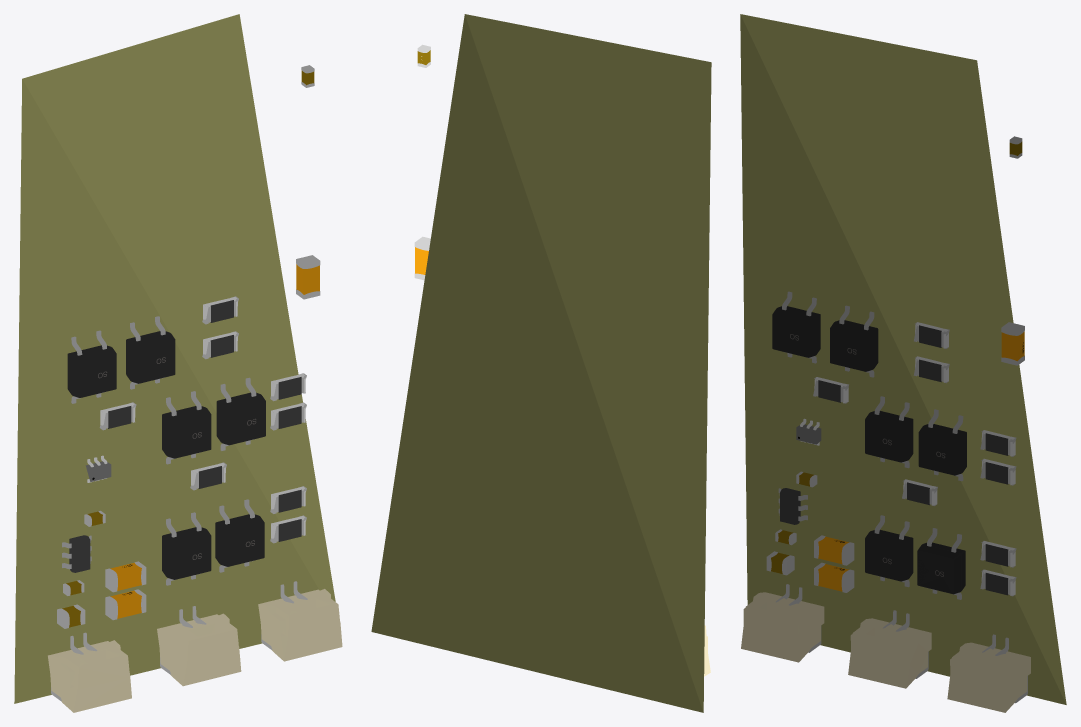
The model's file is OBJ_ESP32-Airco-NTC-Spoofer-PCB.obj.
3 renders of one model, left to right at view 1: azimuth 30°, elevation 25°; view 2: azimuth 150°, elevation 25°; view 3: azimuth 330°, elevation 25°, orthographic. The views are drawn at different scales.
Bounding box in the file's own units: 122 × 226 × 24.55.
